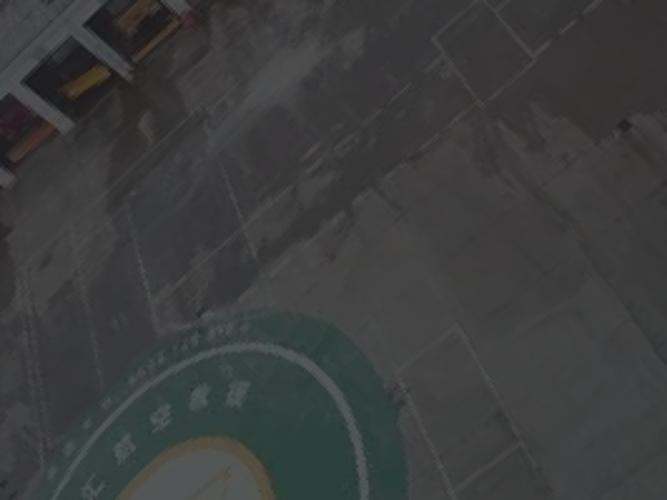Apron: (114, 429, 287, 500)
